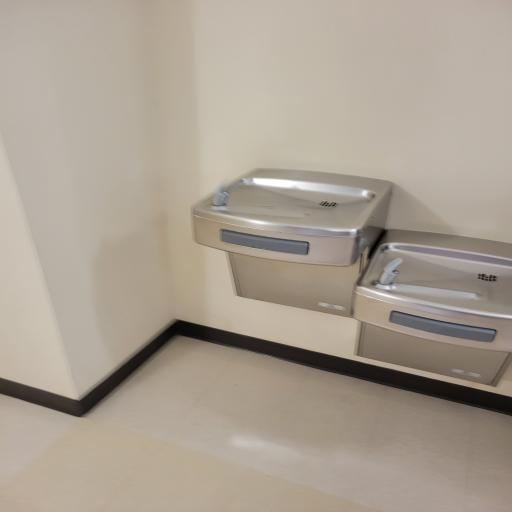water fountain: (191, 167, 393, 322), (363, 216, 512, 395)
